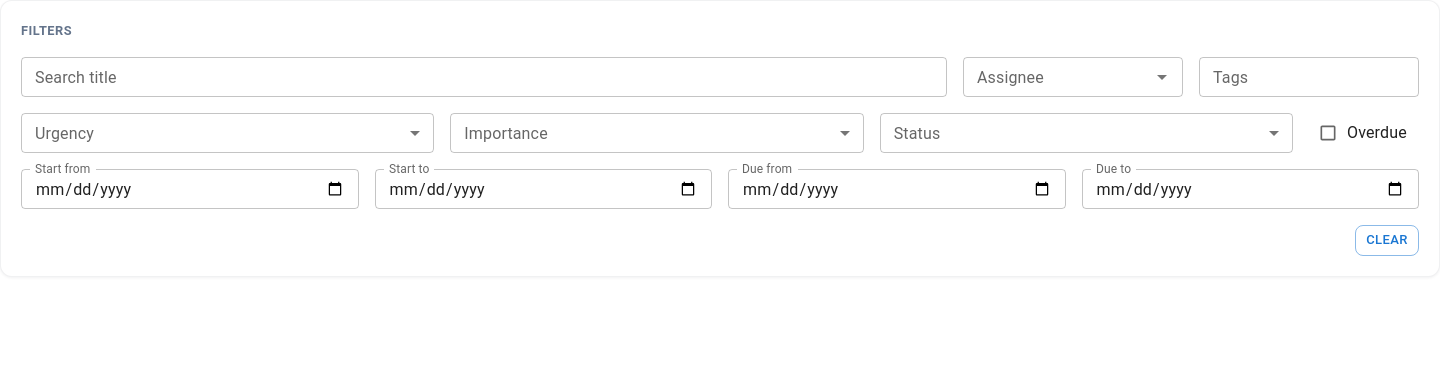
it: FilterPanel › renderiza importance select
need to re-render with user? just check select exists
Click the dropdown named "importance" next to "Importance" at (657, 133), box top-left (450, 113), bottom-right (864, 153)
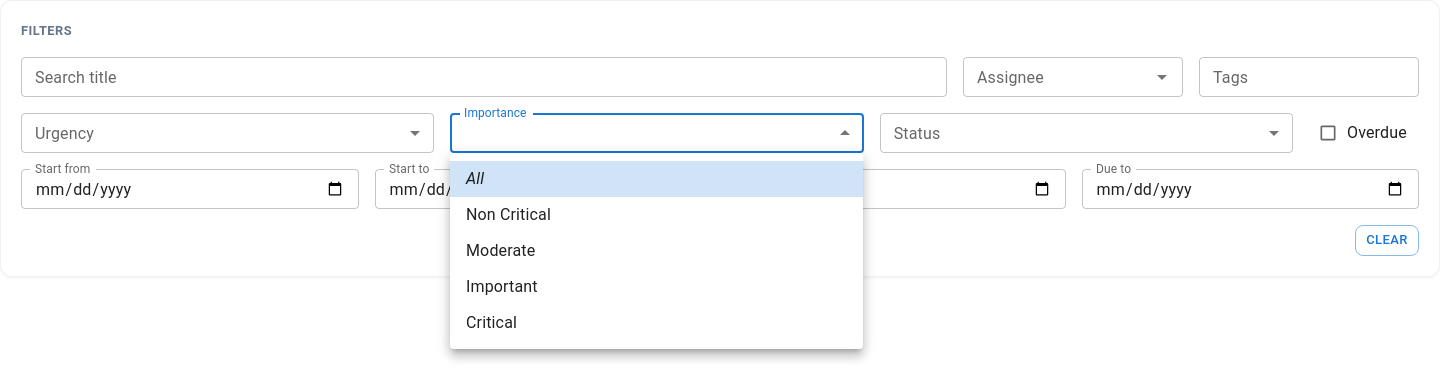
Result: the option "Non Critical" is shown at top-left (466, 205), bottom-right (551, 224)
Result: the option "Critical" is shown at top-left (466, 313), bottom-right (517, 332)
